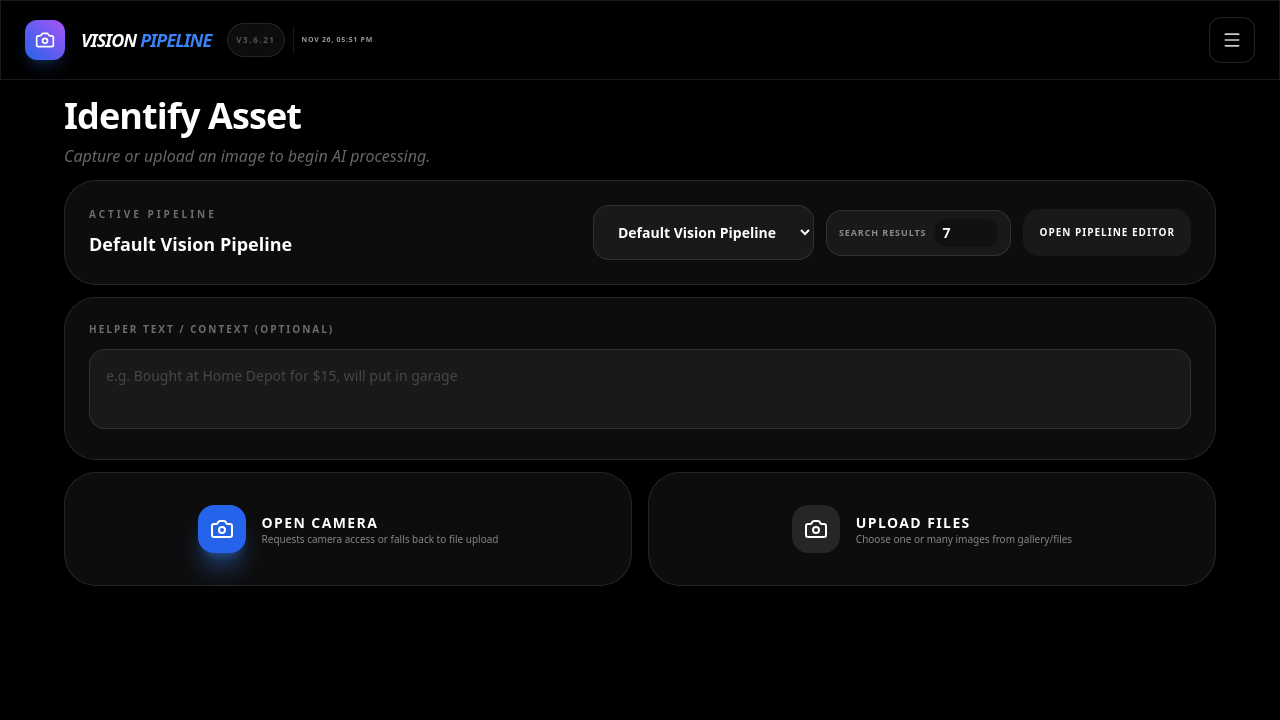
Test: Vision Pipeline App › Feature: review-delete-item | deletes a queue item from the review page
This screenshot has width=1280, height=720.
Step 1. Click the button named "open menu" → coordinates (1232, 40), box [1209,17,1255,63]
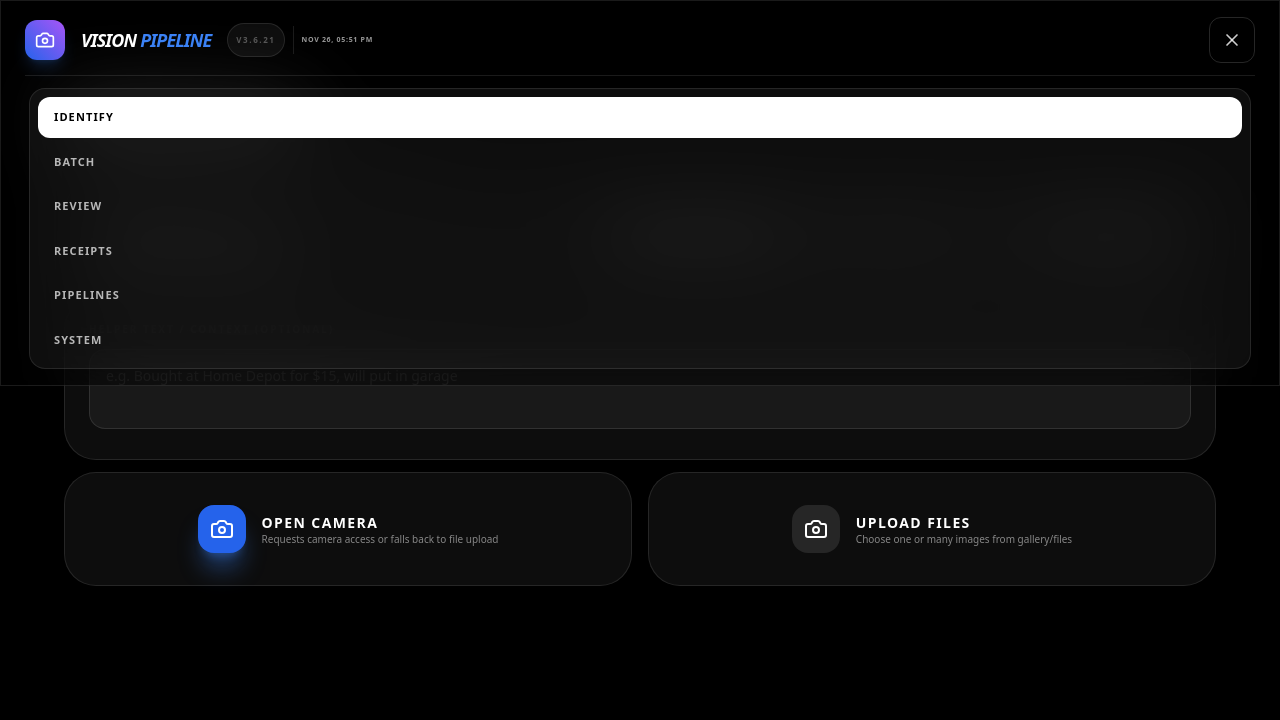
Step 2. Click the button "review" → coordinates (78, 206), box [38,186,1242,226]
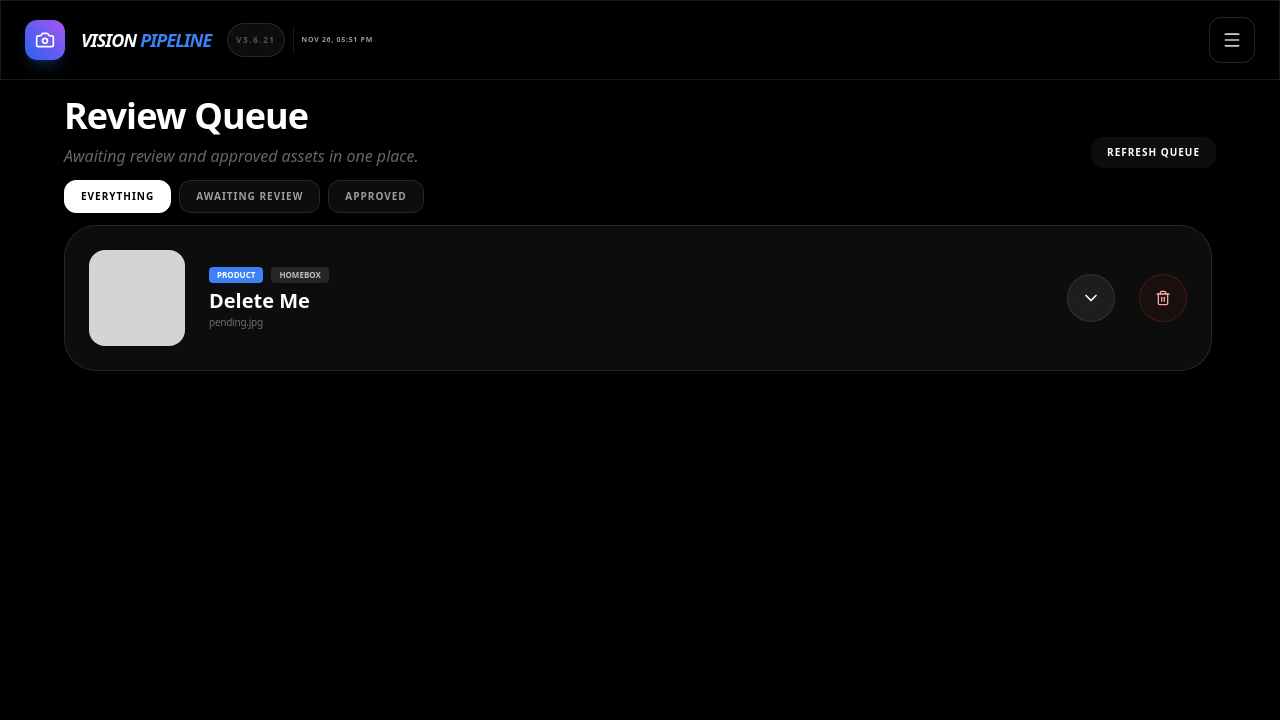
Expected: the heading "Delete Me" is shown, [209,286,310,314]
Step 3. Click the button named "Expand Asset" → coordinates (1091, 298), box [1067,274,1115,322]
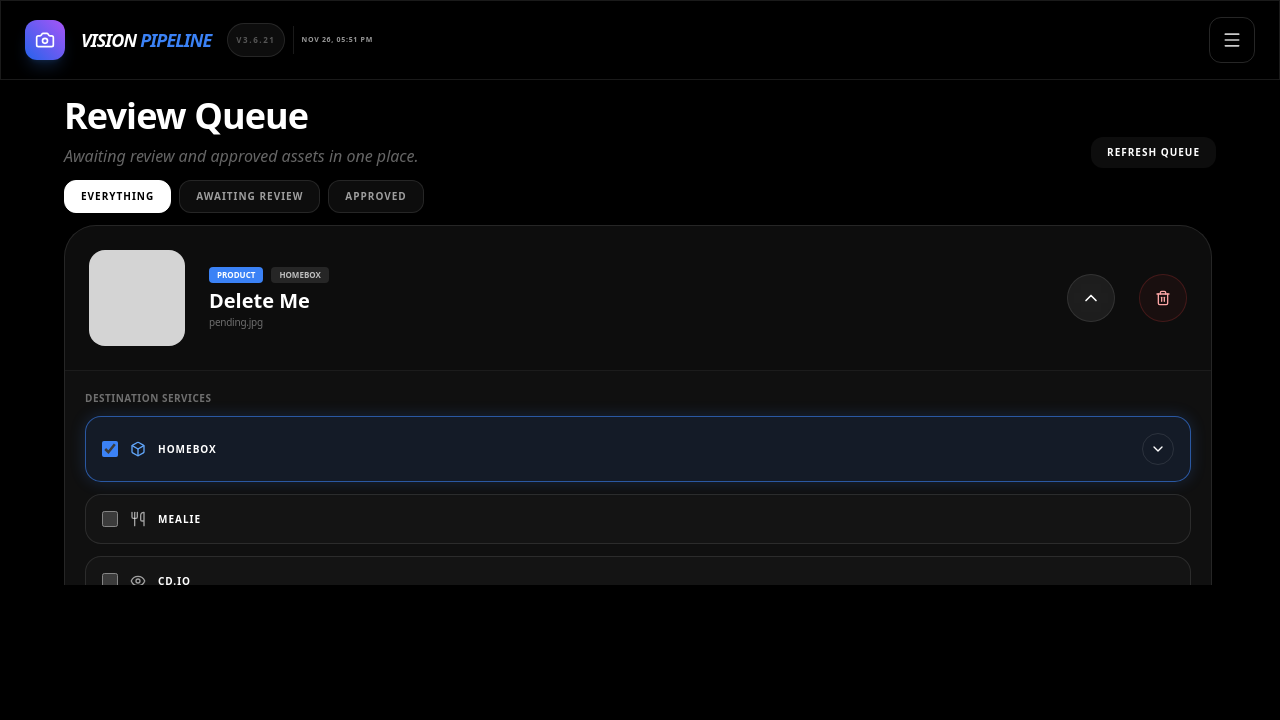
Step 4. Click the button named "Delete Asset" → coordinates (1163, 298), box [1139,274,1187,322]
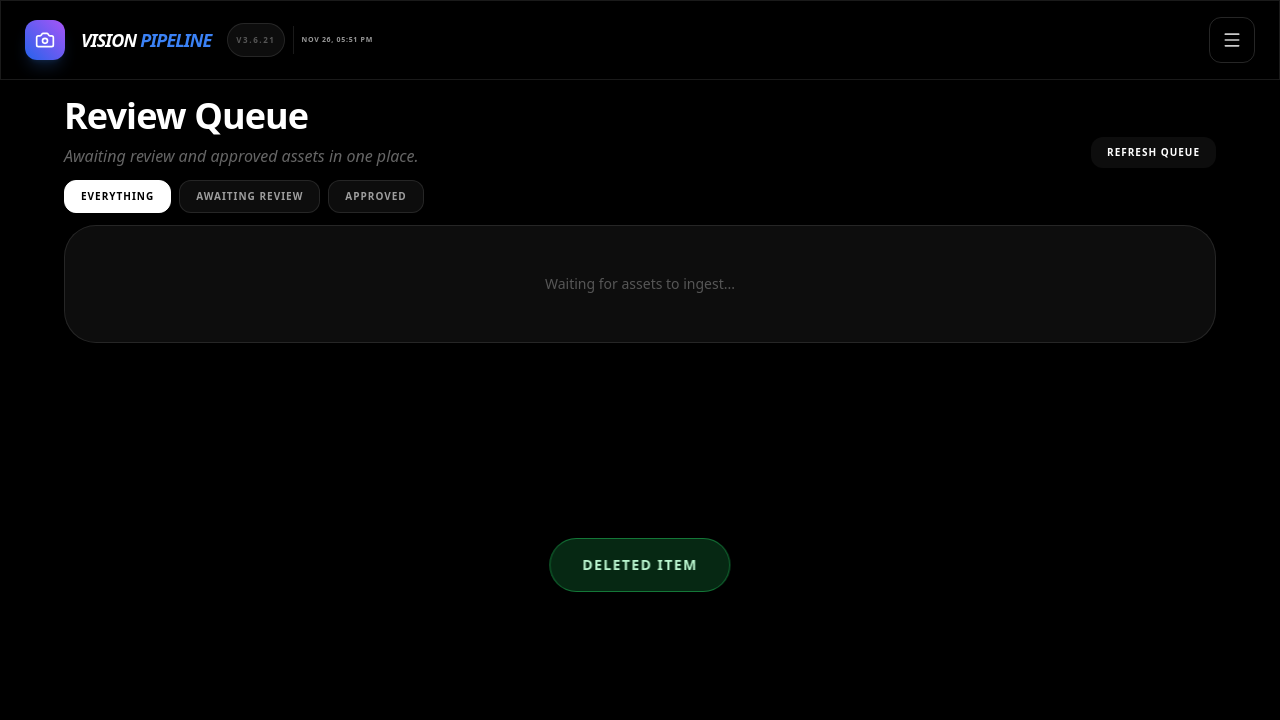
Expected: the heading "Delete Me" is gone
